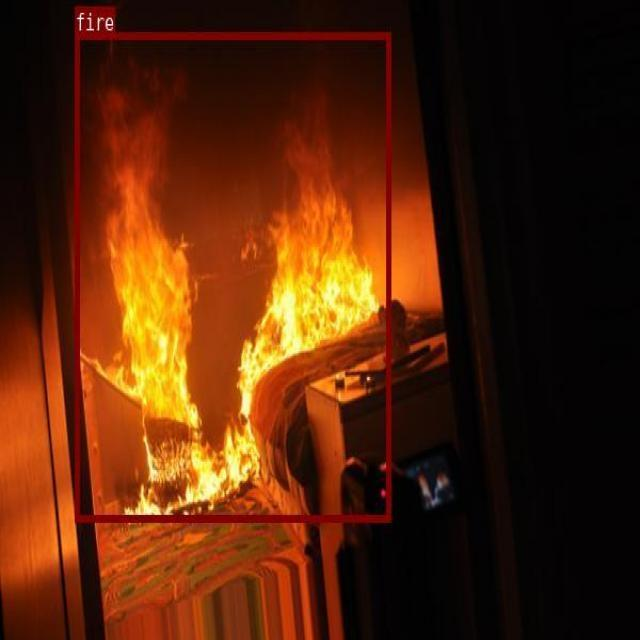fire: (74, 31, 390, 520)
